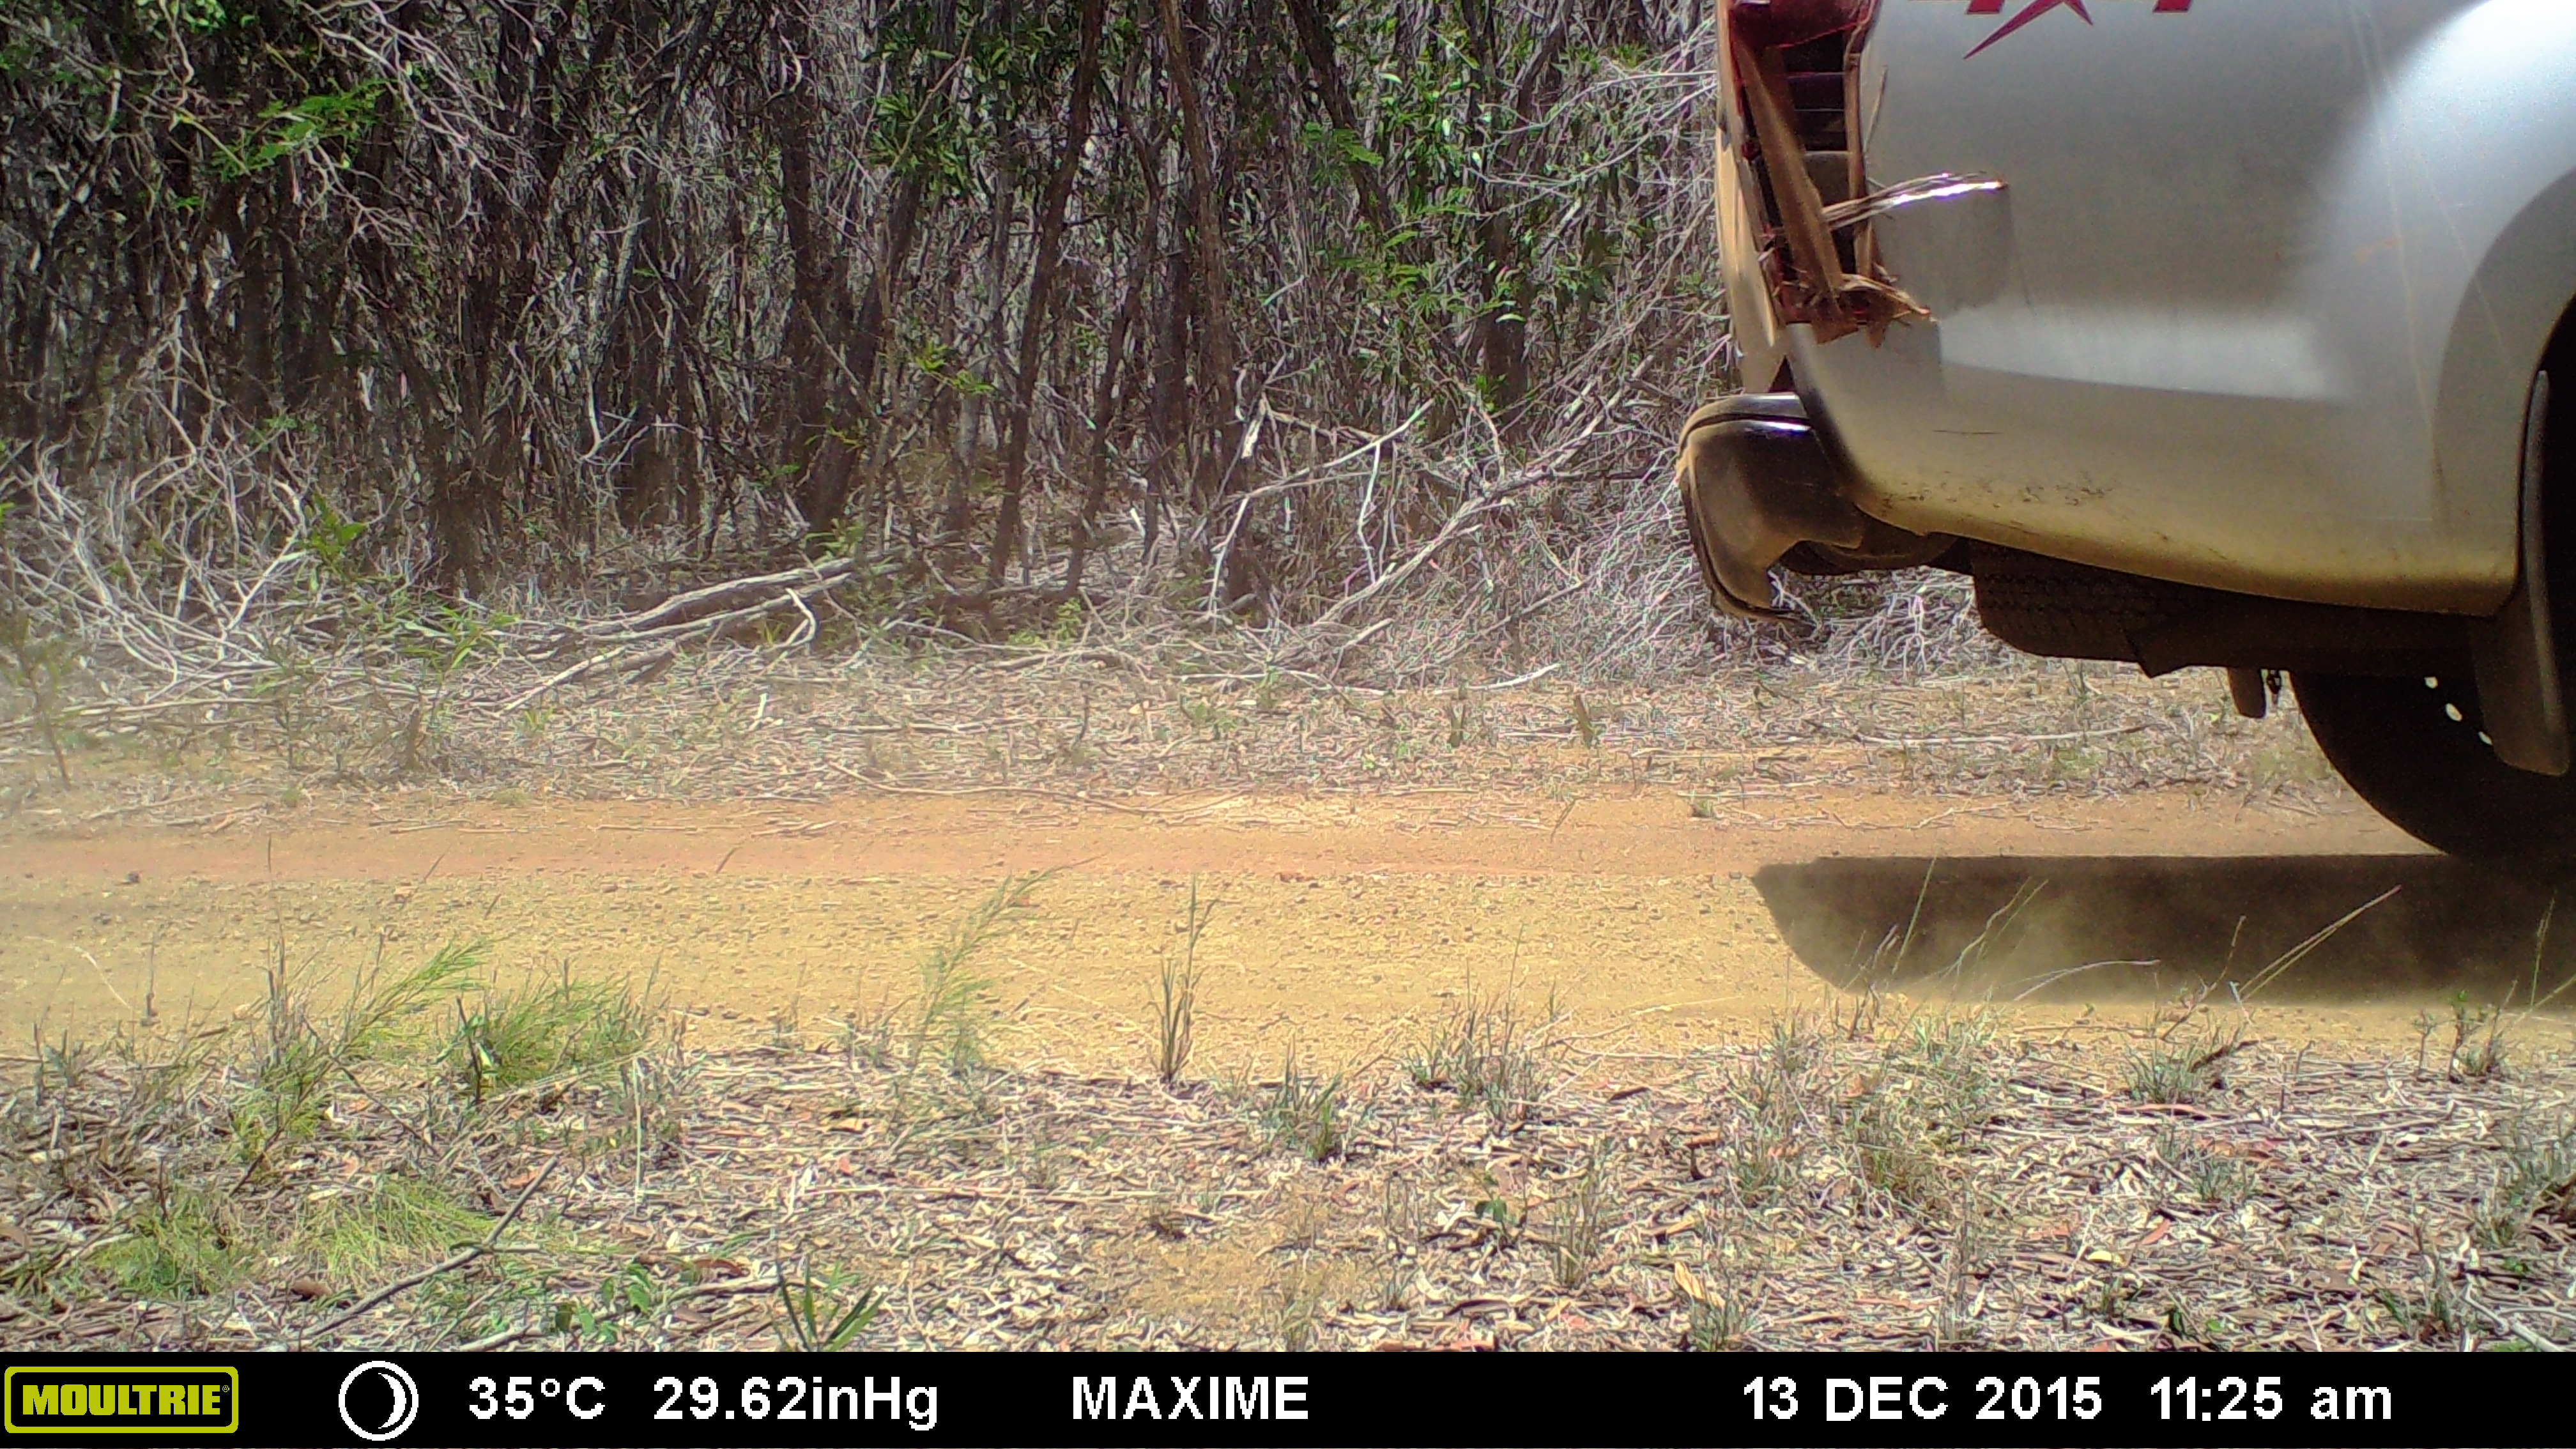Car: (1665, 2, 2574, 934)
